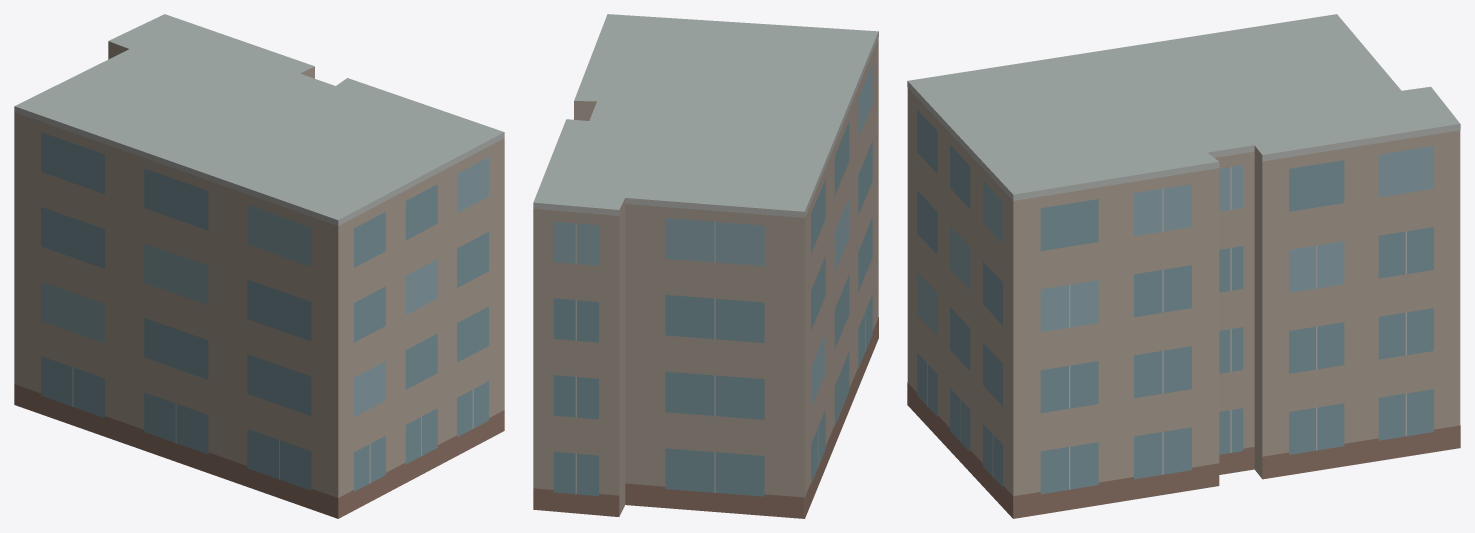
File: survey-upis-32851262.glb
The picture shows the model from 3 angles, left to right: view 1: azimuth 30°, elevation 25°; view 2: azimuth 150°, elevation 25°; view 3: azimuth 270°, elevation 25°; orthographic projection. The views are drawn at different scales.
Parts seen in each view (by area): view 1: survey-upis-32851262.tmp; view 2: survey-upis-32851262.tmp; view 3: survey-upis-32851262.tmp.
Boxes of the visible parts, x1,y1,x2,y2 form: survey-upis-32851262.tmp: (14, 14, 504, 518); survey-upis-32851262.tmp: (533, 14, 878, 518); survey-upis-32851262.tmp: (907, 14, 1460, 518).
Size of the model in its own units: 14.77 by 12.35 by 19.1.
